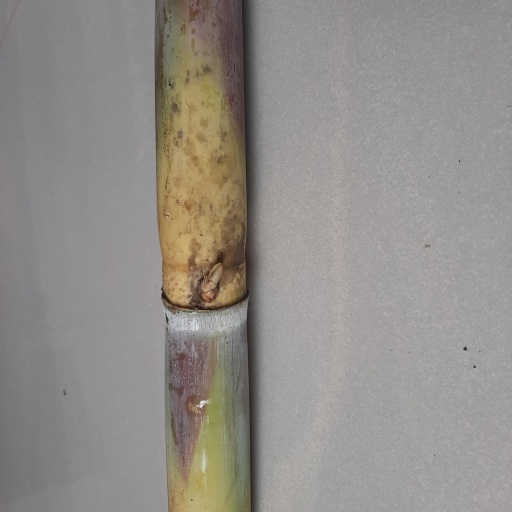Sprouted_Bud: (196, 263, 223, 302)
